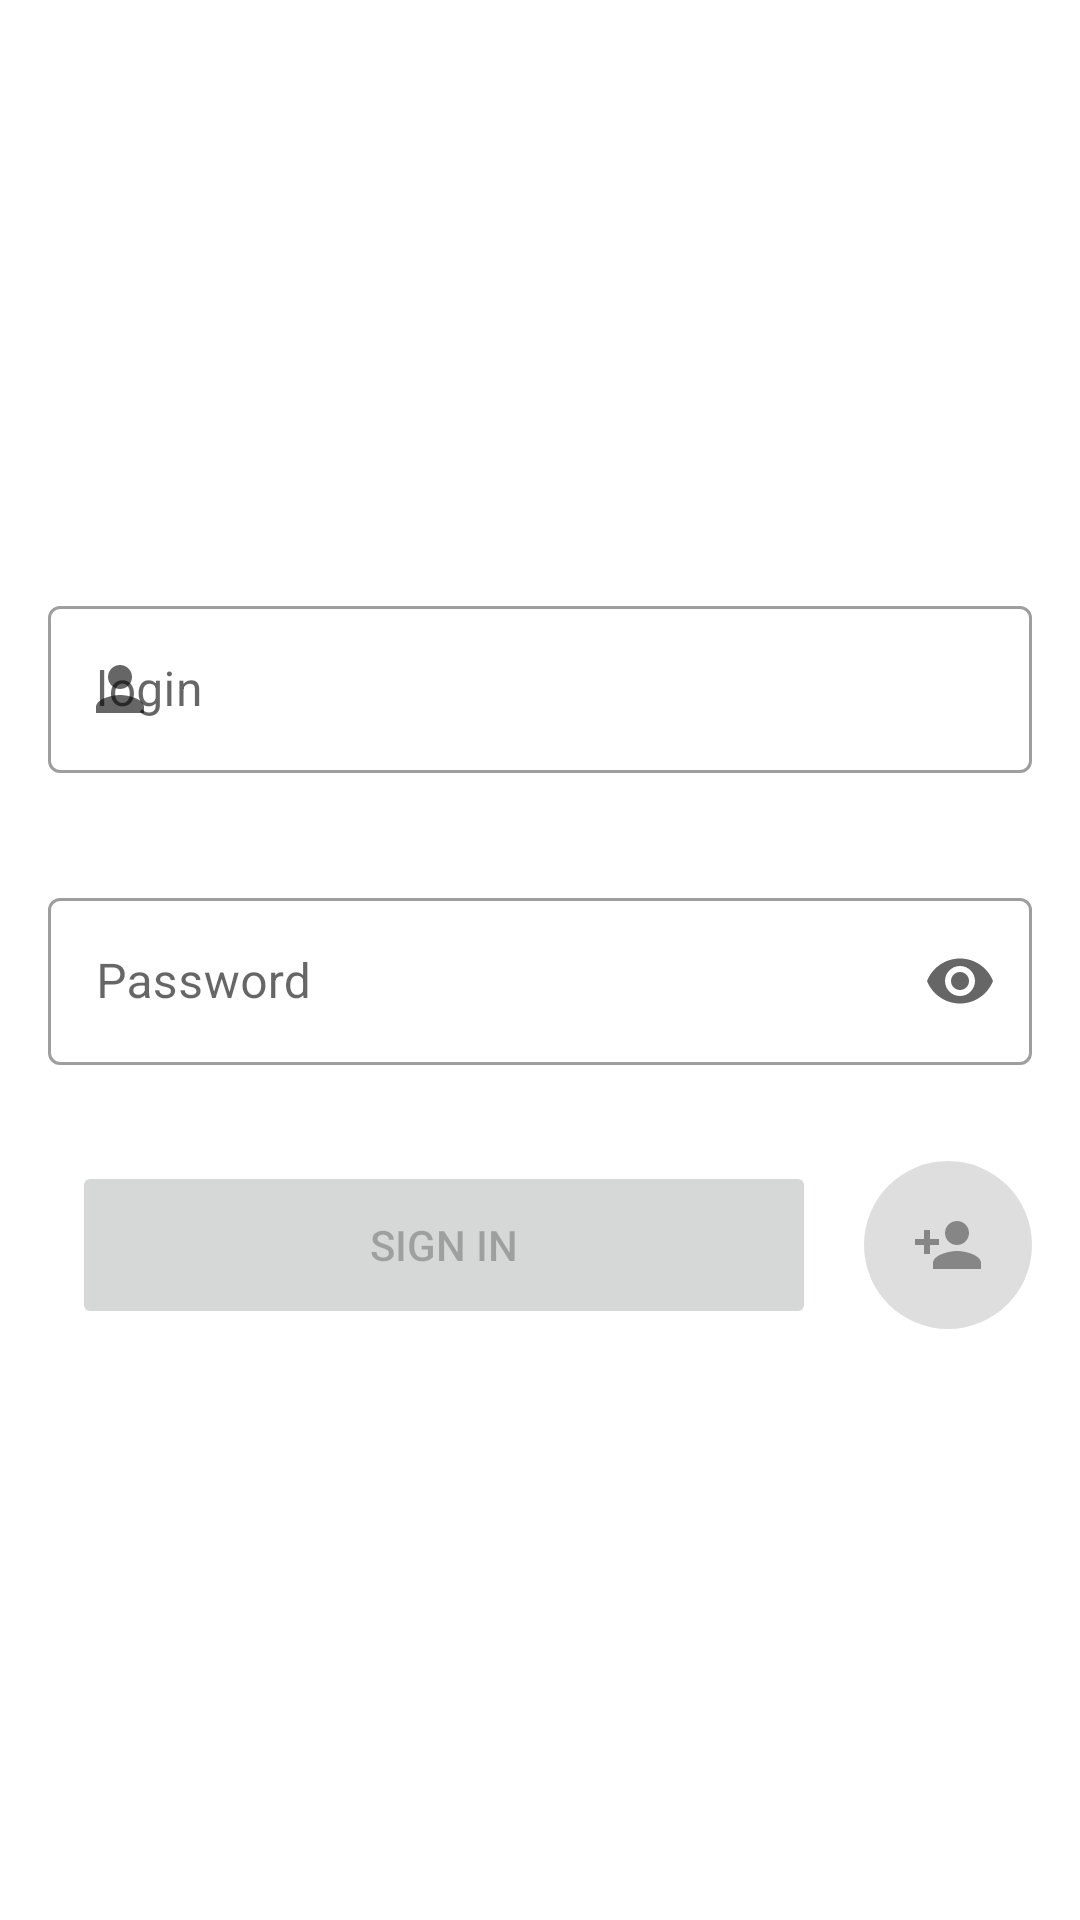

Icon click points for this 1080w x 1920h phone screenshot, format (x=x, y=y):
sign up: (x=948, y=1245)
